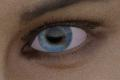eye: (40, 26, 71, 51)
